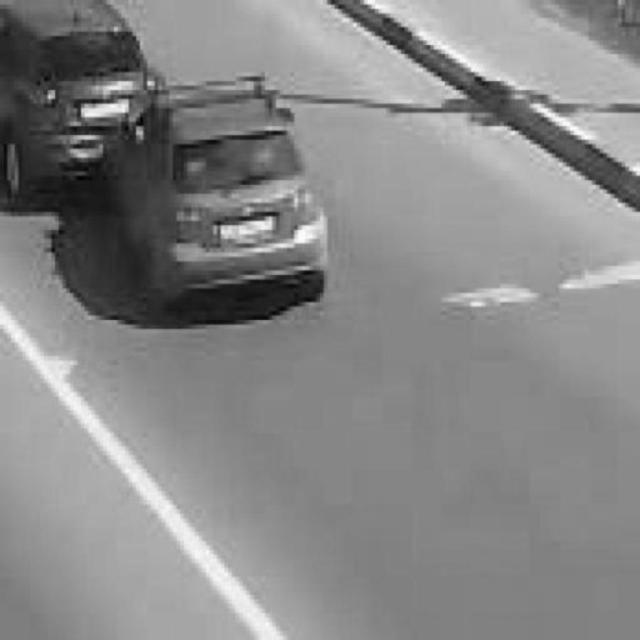accident: (5, 2, 332, 312)
